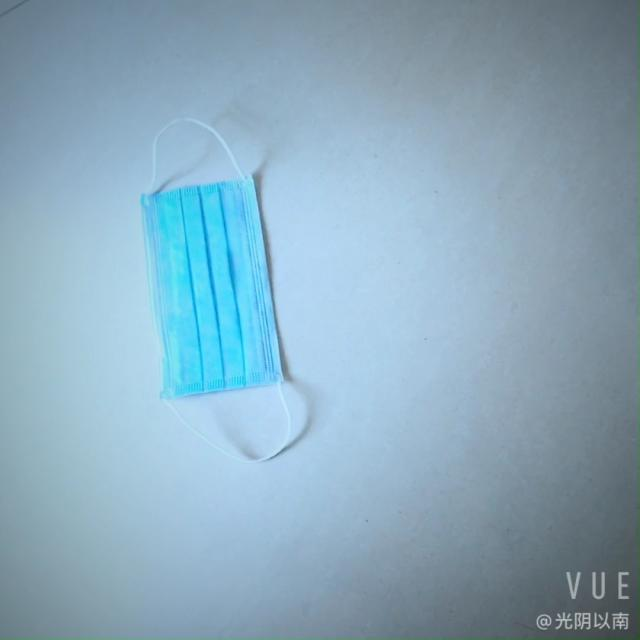non-organic waste: (143, 155, 285, 410)
